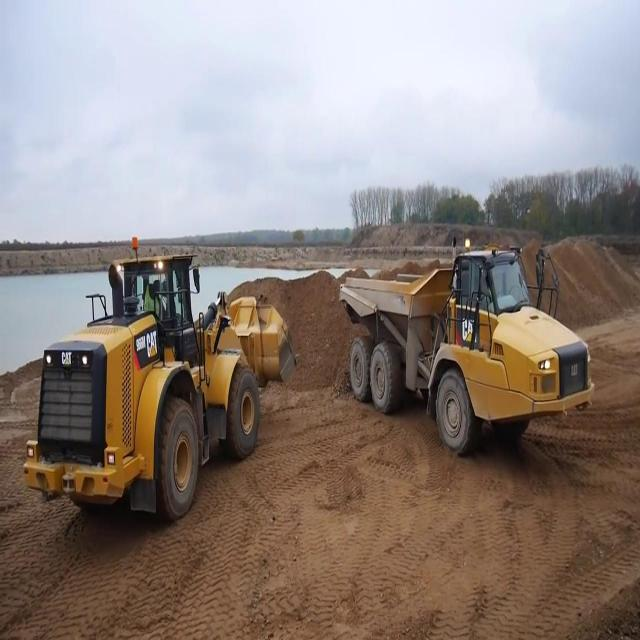Dump Truck: (338, 234, 596, 453)
Loader: (21, 234, 301, 532)
